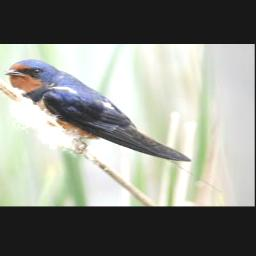Swallow: (2, 58, 192, 162)
